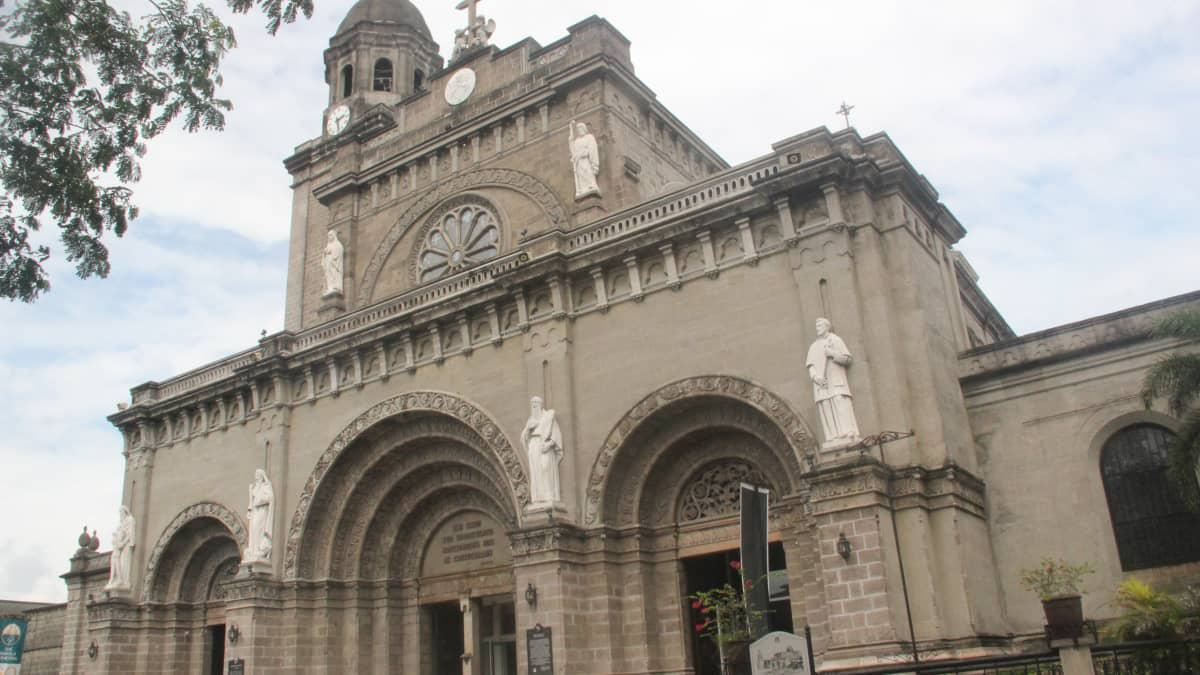manila_cathedral_church_intramuros_manila: (111, 2, 1001, 671)
